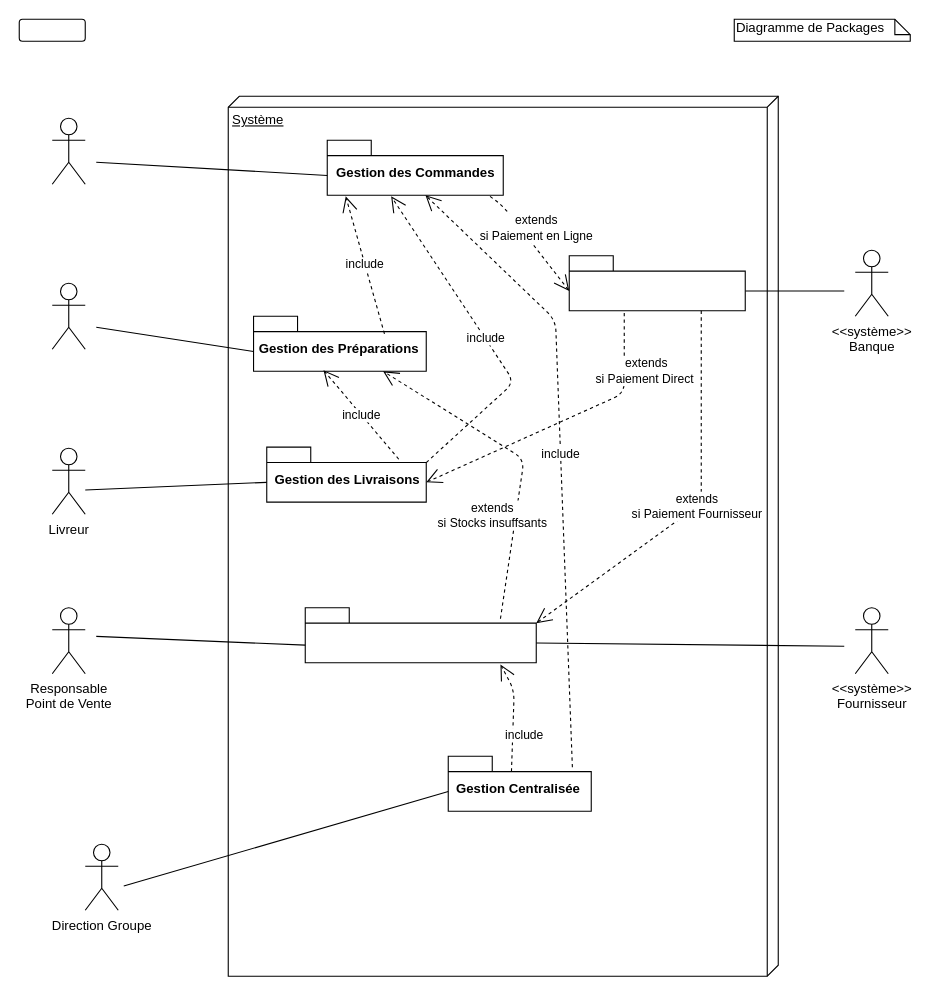
Some shapes in this 931 by 996 pixel diagram are drawn without their labels. The centre of each missing label's shape, as x and y in pixels:
"Client" belongs at pixel 68 150.
"Gestion des Approvisionnements" belongs at pixel 420 635.
"Gestion des Règlements" belongs at pixel 656 283.
"OC'Pizza" belongs at pixel 51 29.
"Pizzaiolo" belongs at pixel 68 315.
